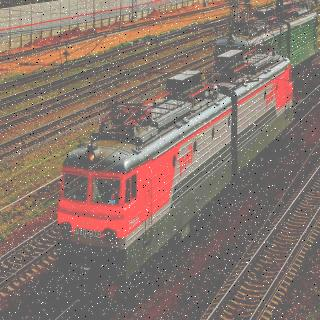poezd: (59, 62, 295, 301)
